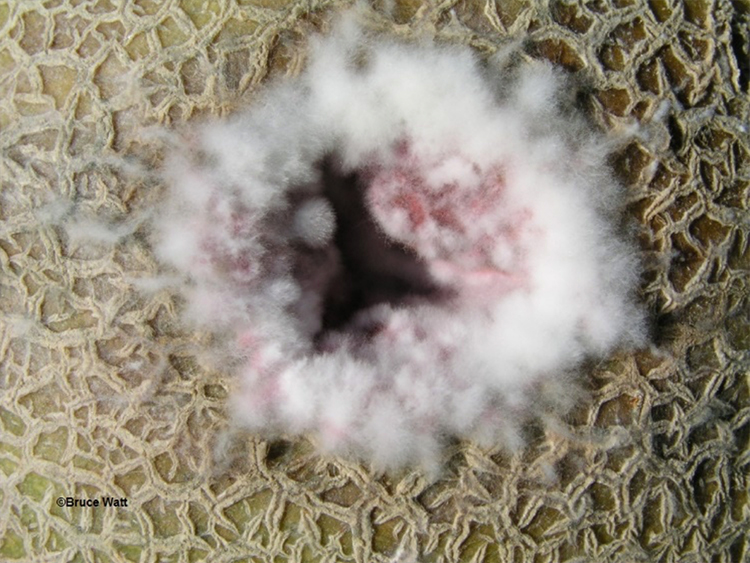Fusarium: (314, 17, 572, 241), (212, 261, 528, 402), (38, 159, 159, 246)
